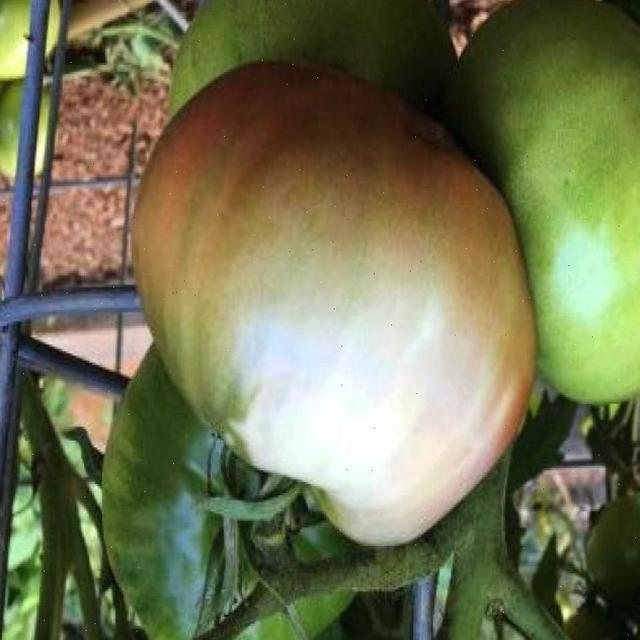Sunscald Fruit: (156, 175, 340, 360)
